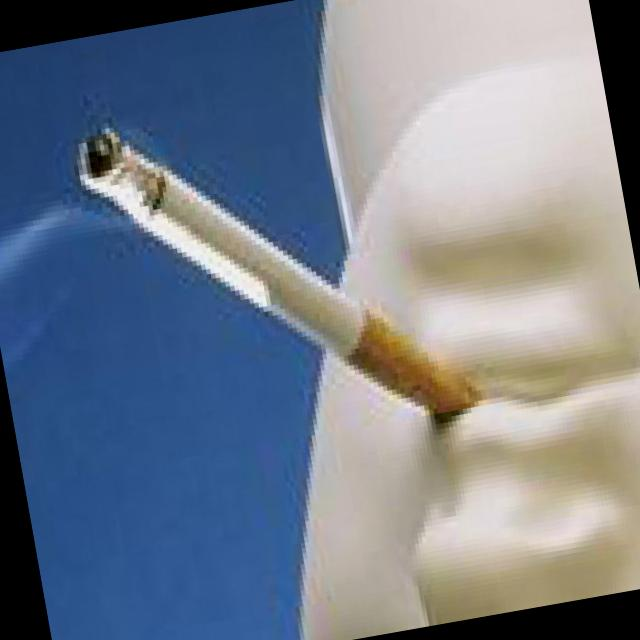smoke: (63, 66, 495, 488)
